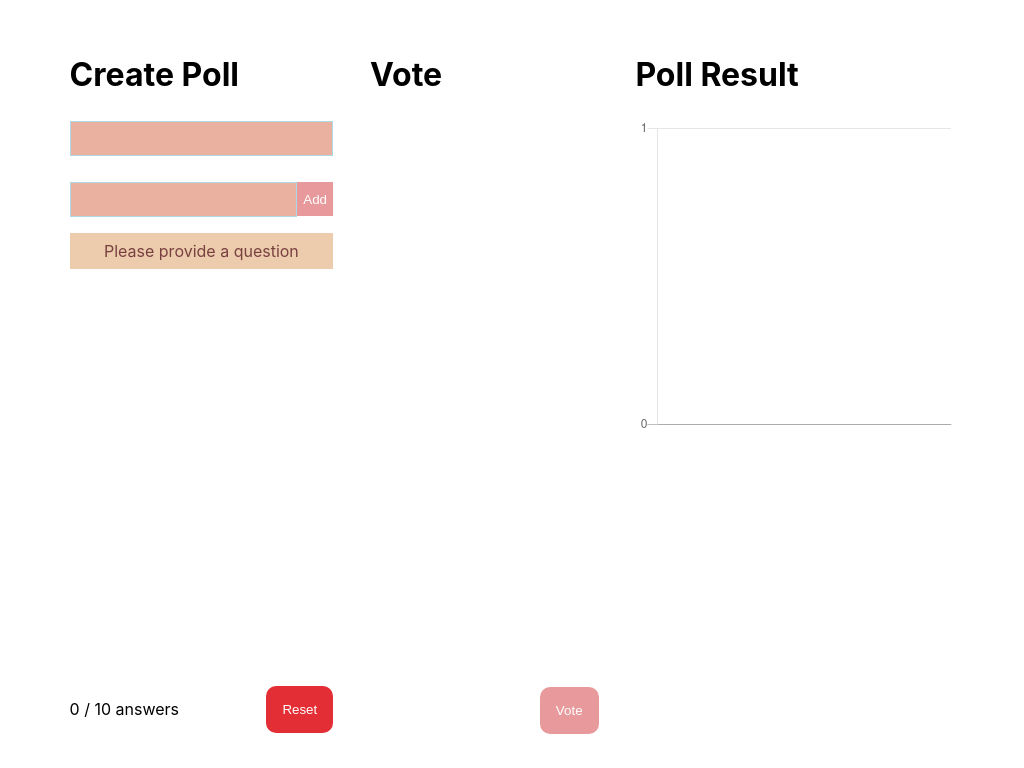
Test: Poll app › poll question and answer form test › notifies user when there are less then 2 answers
Type "Test question" into the 1st field at (202, 139), box [70,121,334,156]
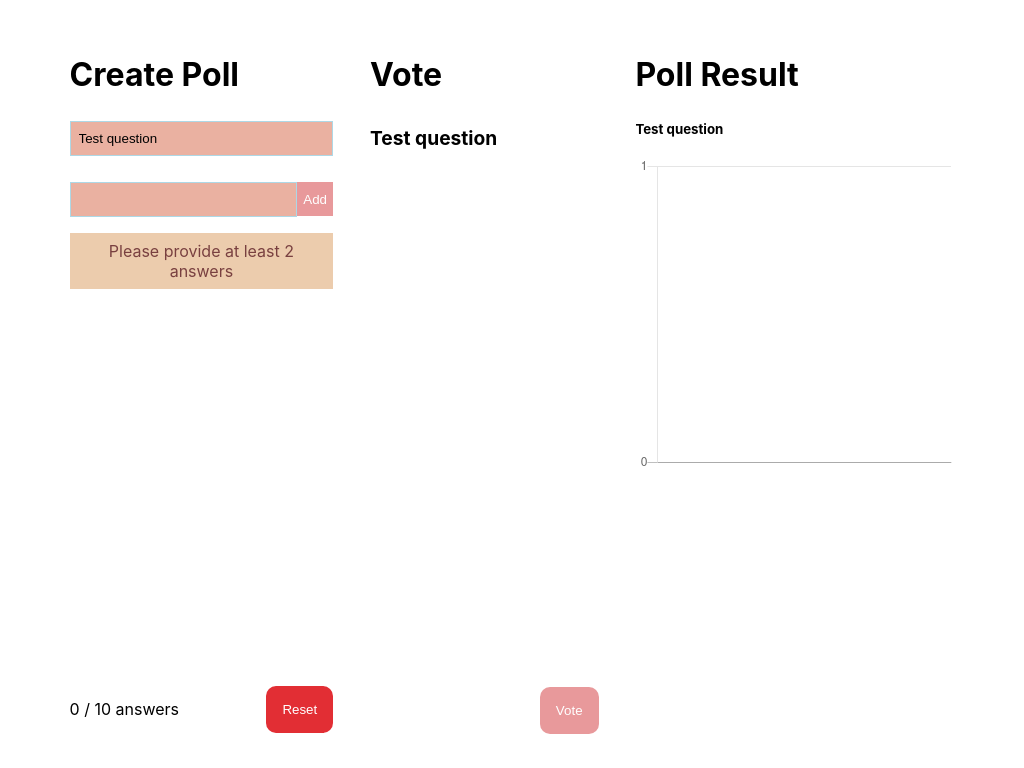
Check: the text with class "error" reads "Please provide at least 2 answers", box [70,233,334,289]
